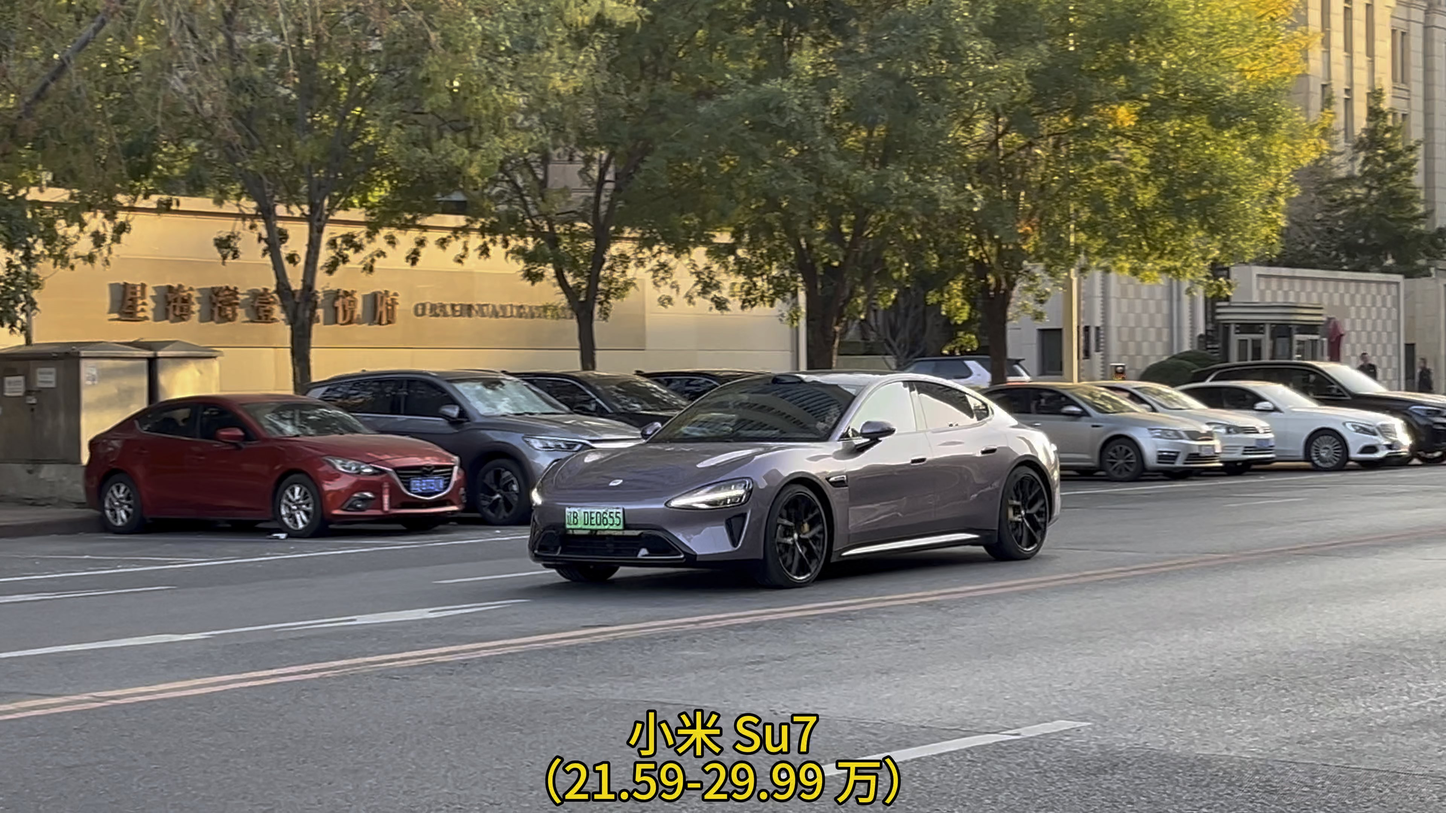other: (61, 400, 463, 521), (988, 367, 1225, 475), (1190, 376, 1425, 465)
su7: (528, 371, 1065, 586)
